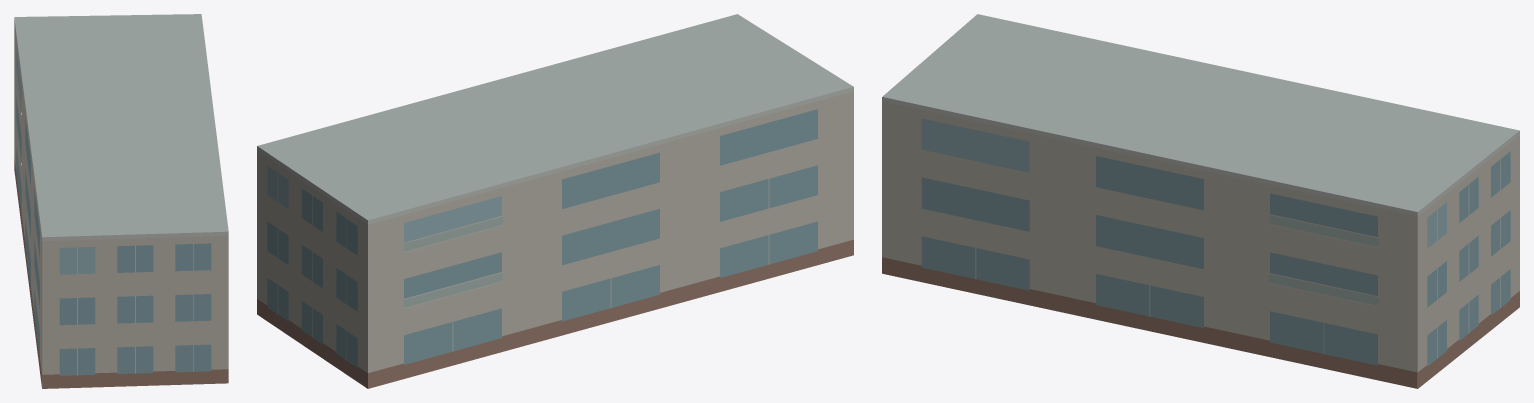
File: survey-upis-32942625.glb
The picture shows the model from 3 angles, left to right: view 1: azimuth 30°, elevation 25°; view 2: azimuth 150°, elevation 25°; view 3: azimuth 270°, elevation 25°; orthographic projection. The views are drawn at different scales.
Visible parts, largest first — view 1: survey-upis-32942625.tmp; view 2: survey-upis-32942625.tmp; view 3: survey-upis-32942625.tmp.
Boxes of the visible parts, <box> form: survey-upis-32942625.tmp: <box>14,14,228,388</box>; survey-upis-32942625.tmp: <box>257,14,853,388</box>; survey-upis-32942625.tmp: <box>882,14,1519,388</box>.
Size of the model in its own units: 22 by 9.15 by 29.92.
